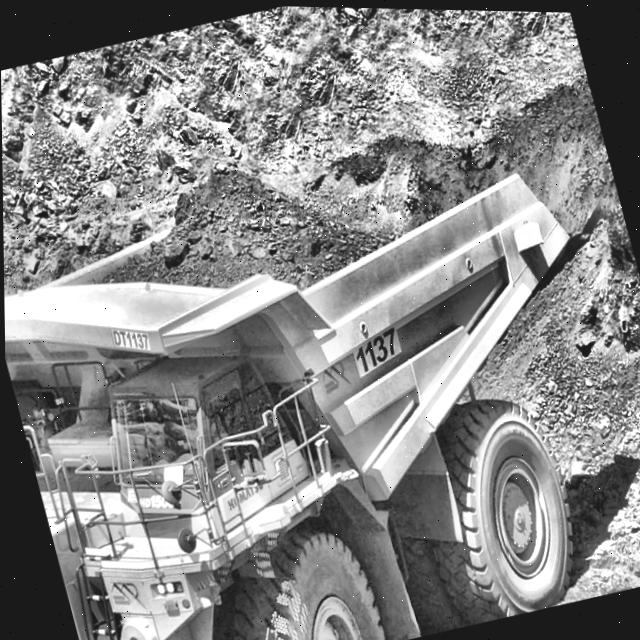dump_truck: (1, 62, 640, 640)
